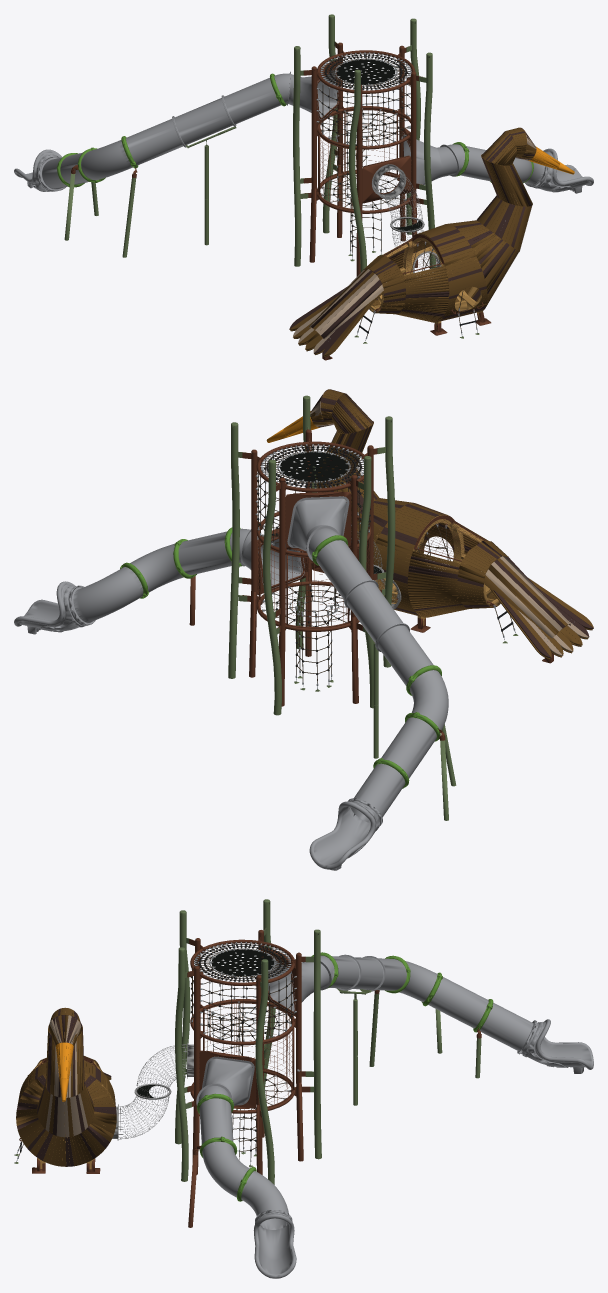
Rendered from rgss-153-p-heron.glb.
3 renders of one model, top to bottom at view 1: azimuth 30°, elevation 25°; view 2: azimuth 150°, elevation 25°; view 3: azimuth 270°, elevation 25°, orthographic. The views are drawn at different scales.
Visible parts, largest first — view 1: Gövde1; view 2: Gövde1; view 3: Gövde1.
Part boxes in pixels (box(x1,y1,x2,y2)): Gövde1: box(14, 14, 593, 360); Gövde1: box(14, 389, 593, 870); Gövde1: box(14, 899, 593, 1278).
Bounding box in the file's own units: 13.42 × 6.27 × 14.2.
Materials: 3 (3 with a texture image).
